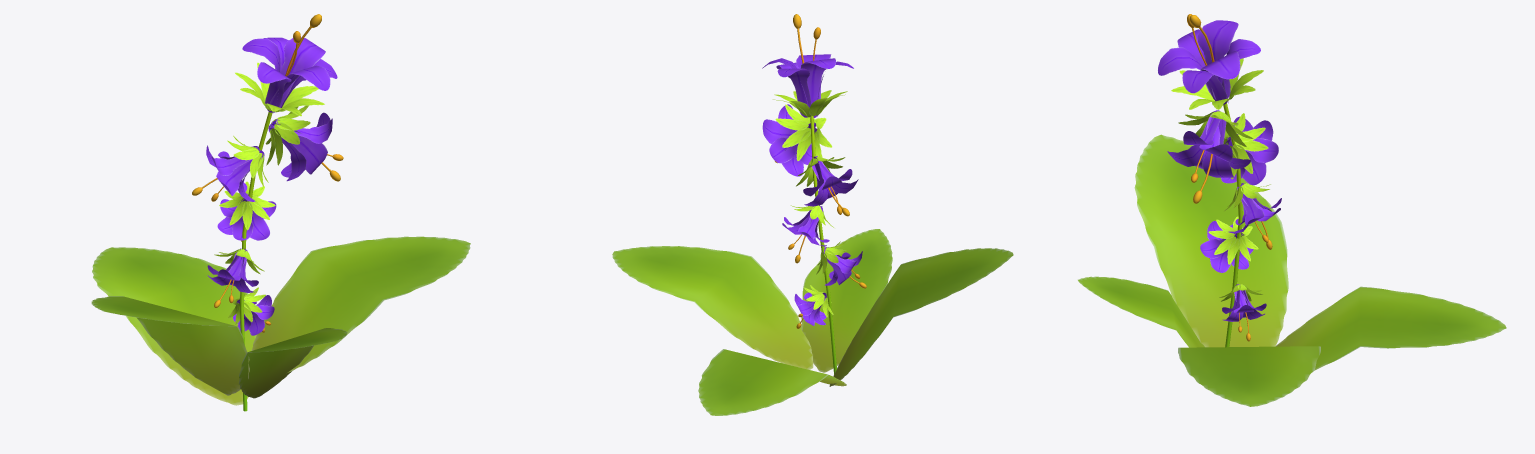
File: plant_30.fbx
3 views of the same model, side by side, from view 1: azimuth 30°, elevation 25°; view 2: azimuth 150°, elevation 25°; view 3: azimuth 270°, elevation 25° (orthographic). The views are drawn at different scales.
Visible parts, largest first — view 1: plant_30; view 2: plant_30; view 3: plant_30.
Boxes of the visible parts, x1,y1,x2,y2 form: plant_30: (91,14,470,411); plant_30: (612,14,1013,415); plant_30: (1078,14,1506,406).
Bounding box in the file's own units: 280 × 227 × 231.
